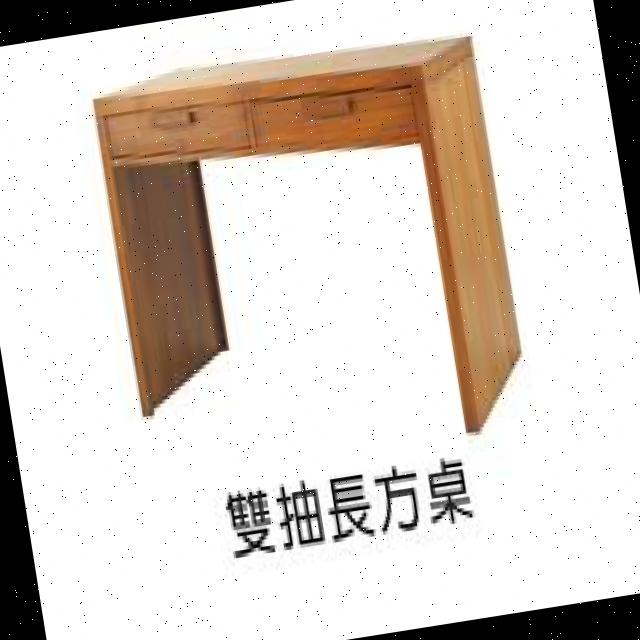Table: (78, 7, 554, 500)
